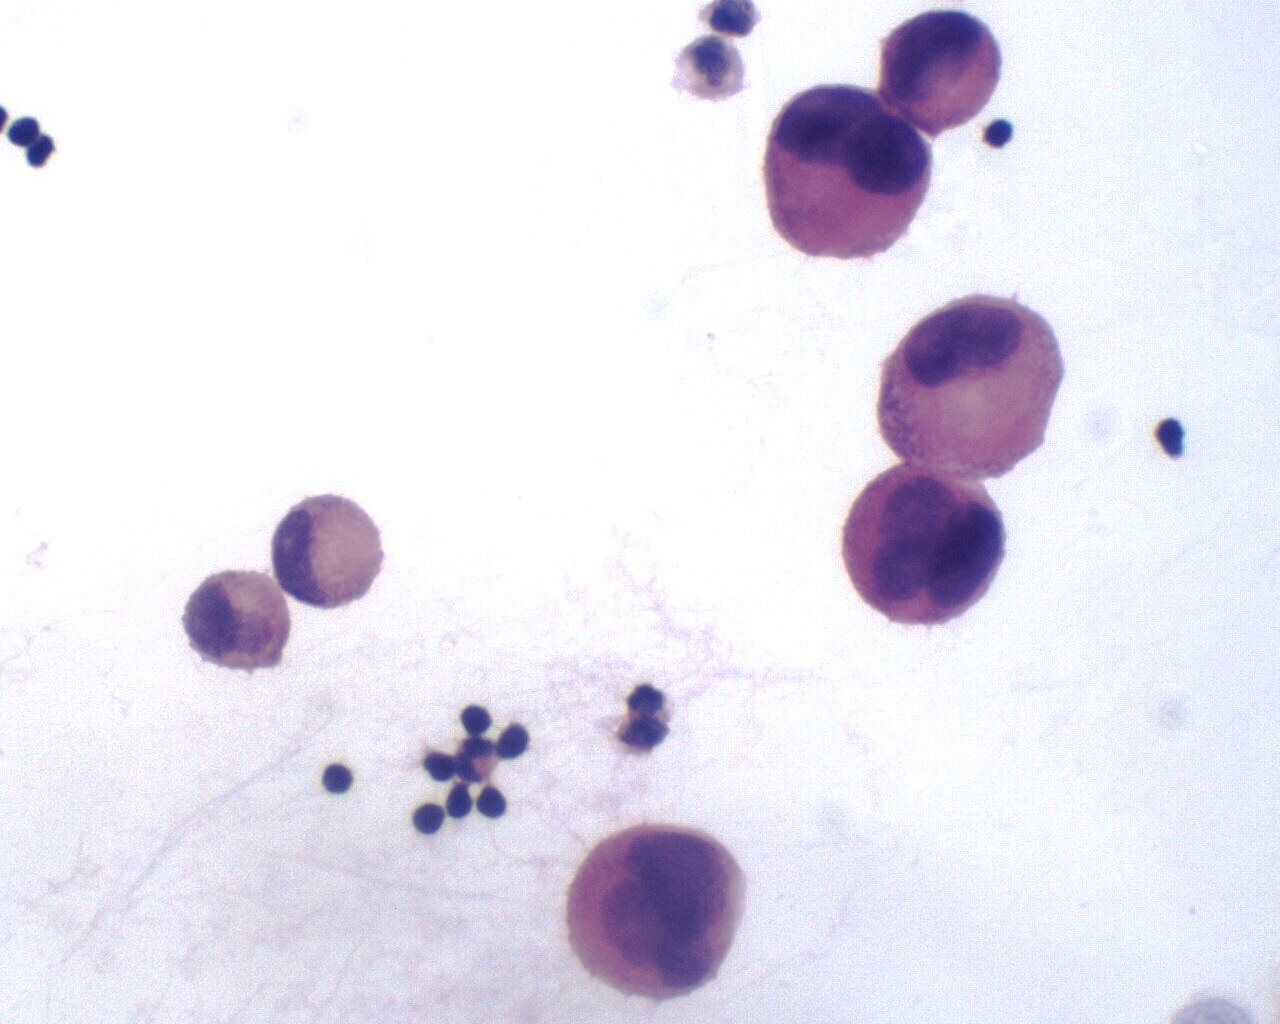ab: (550, 822, 753, 1003), (878, 290, 1072, 478), (746, 80, 932, 271), (840, 460, 1006, 633), (881, 3, 1004, 134)
histo: (273, 494, 398, 609)
lymph: (317, 757, 363, 800), (408, 800, 453, 843), (457, 699, 501, 741), (984, 120, 1022, 156)
